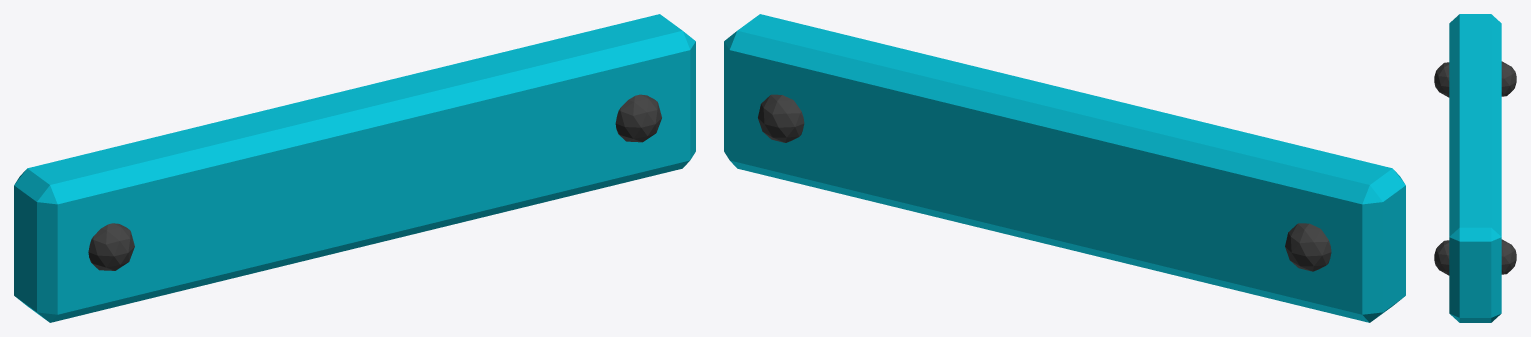
Rendered from BarIG.fbx.
3 renders of one model, left to right at view 1: azimuth 30°, elevation 25°; view 2: azimuth 150°, elevation 25°; view 3: azimuth 270°, elevation 25°, orthographic. The views are drawn at different scales.
Parts seen in each view (by area): view 1: BarIG; view 2: BarIG; view 3: BarIG.
Part boxes in pixels (left/top/right/bottom): BarIG: left=14, top=14, right=695, bottom=322; BarIG: left=724, top=14, right=1405, bottom=322; BarIG: left=1434, top=14, right=1516, bottom=322.
Size of the model in its own units: 1000 by 200 by 157.
